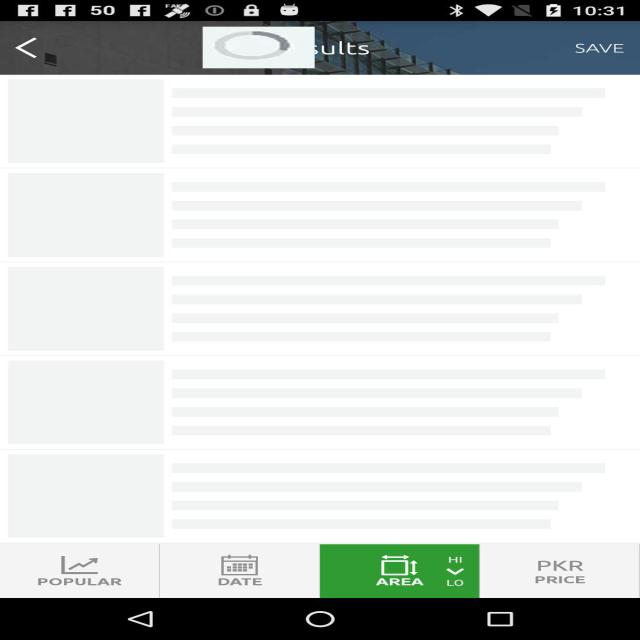misdirection: (202, 27, 314, 68)
